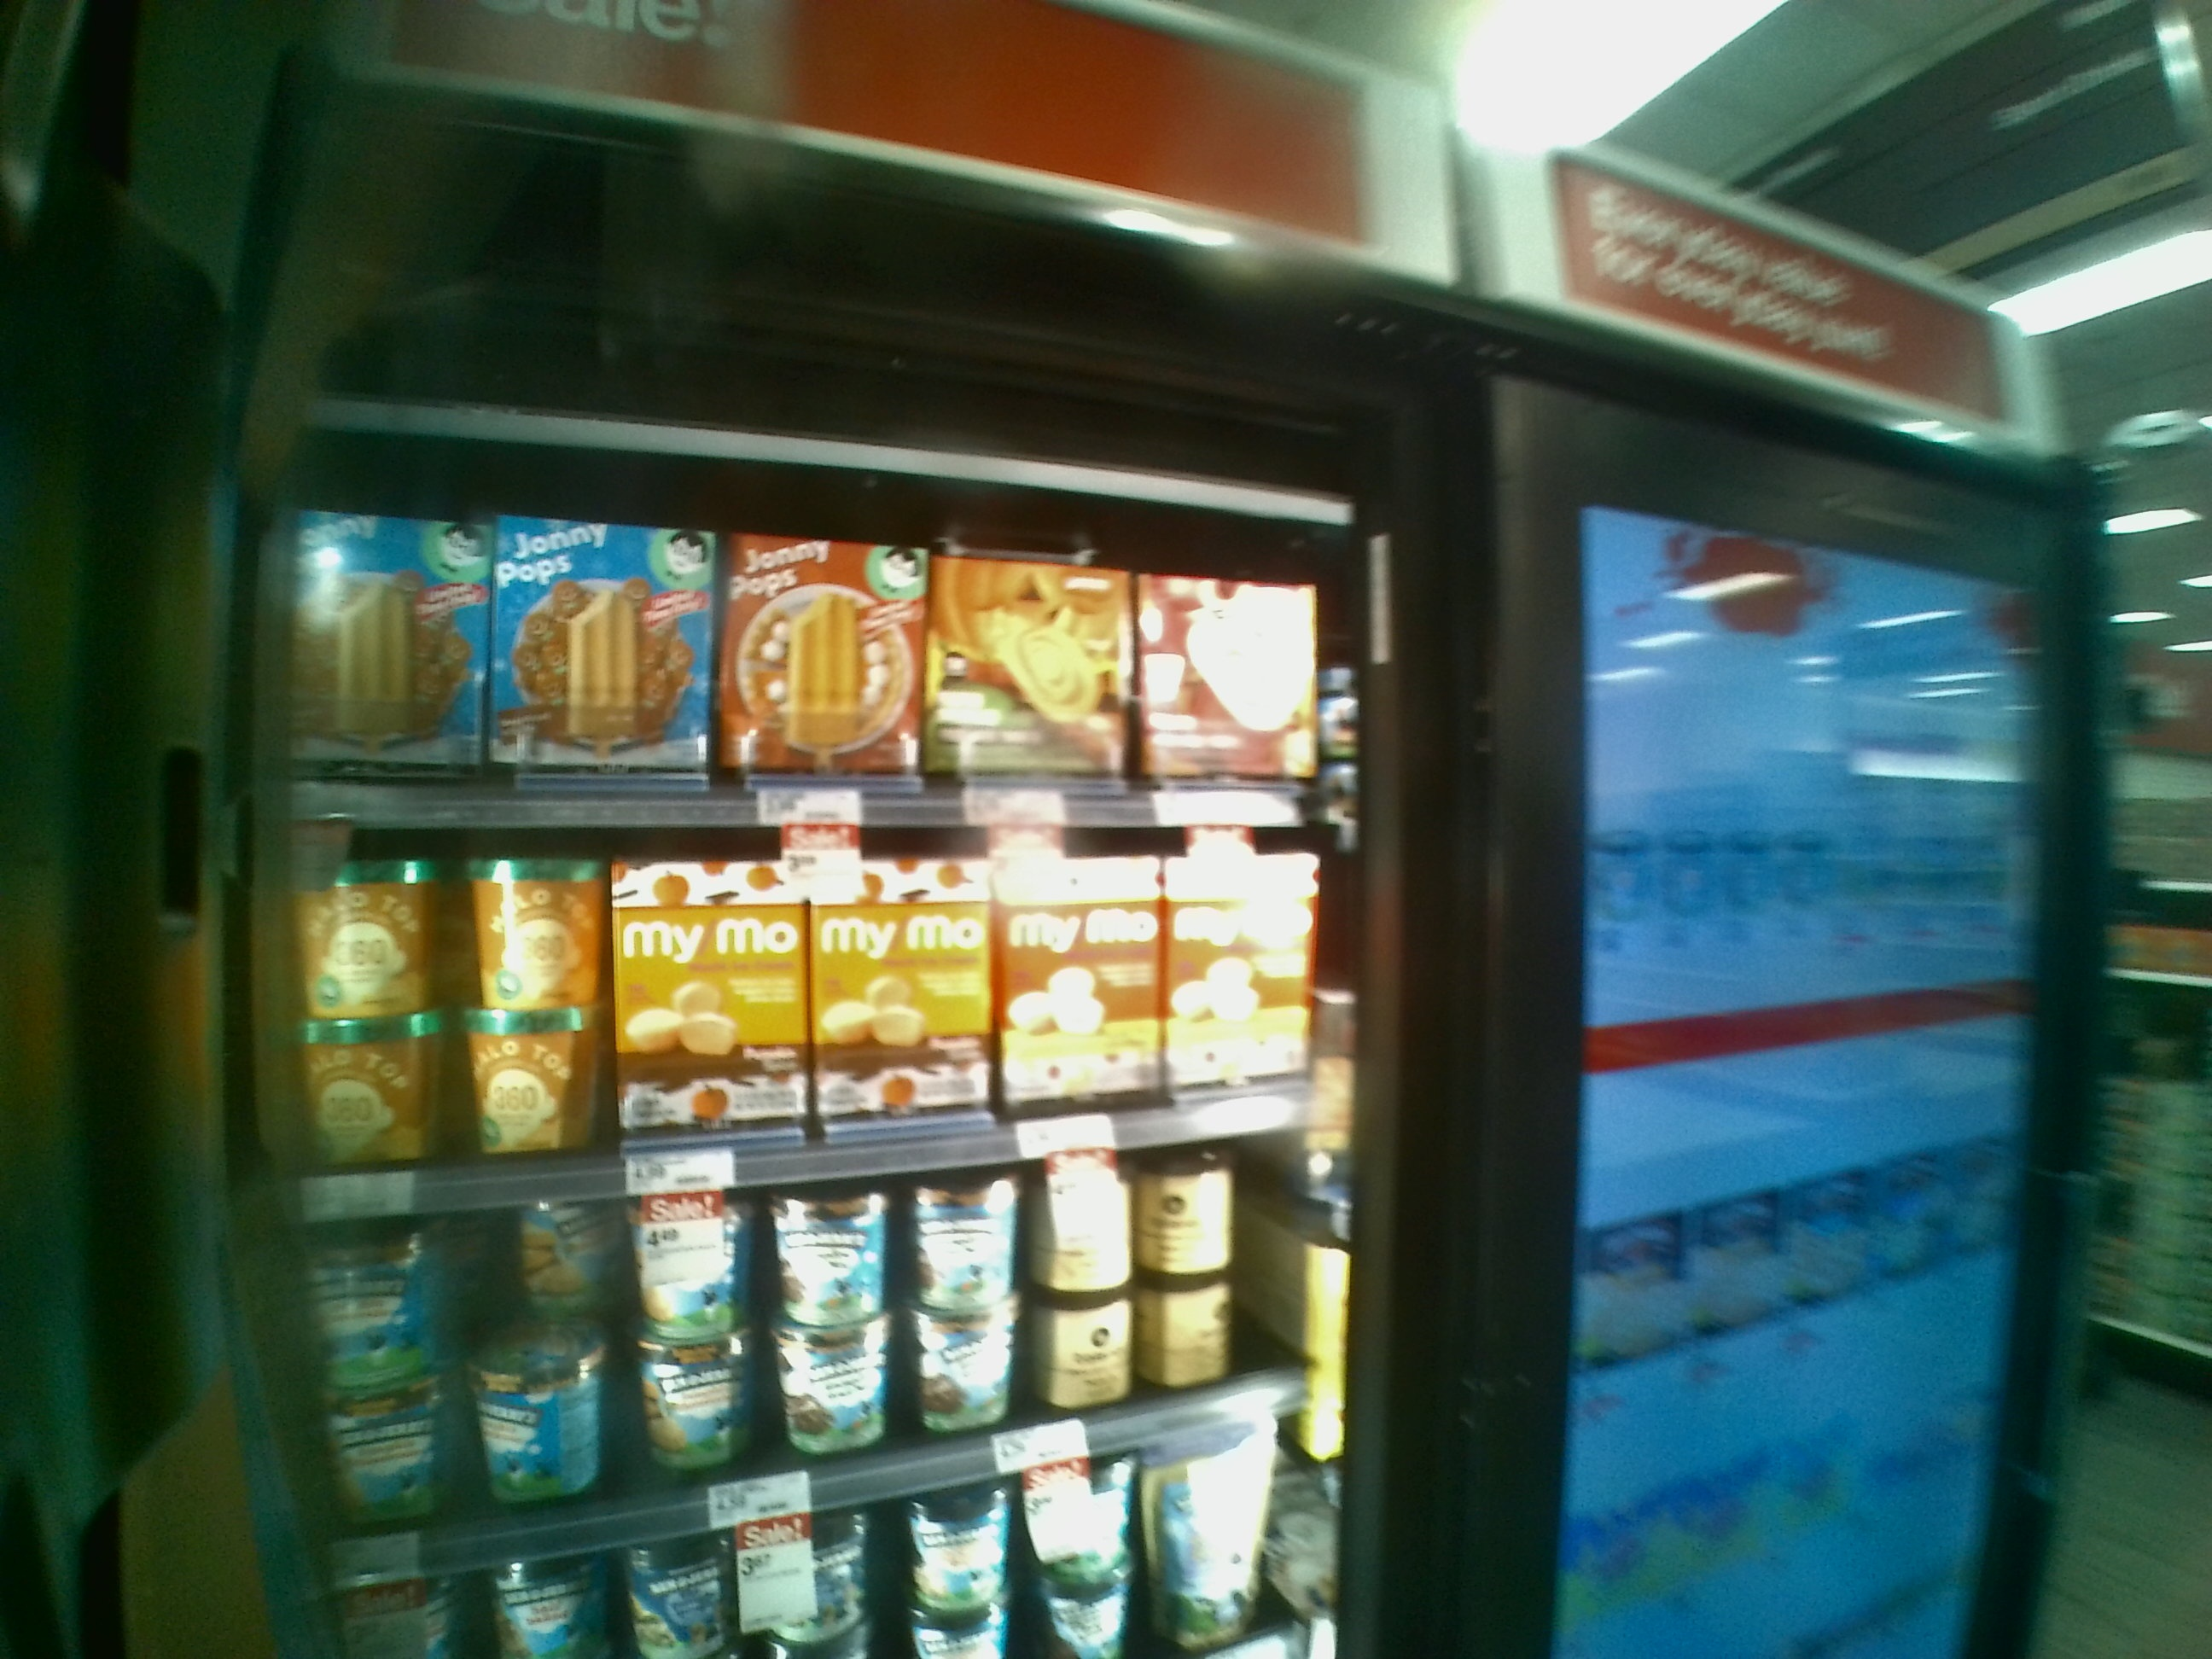shelf: (256, 1159, 1352, 1560), (265, 448, 1341, 821), (253, 791, 1346, 1140)
